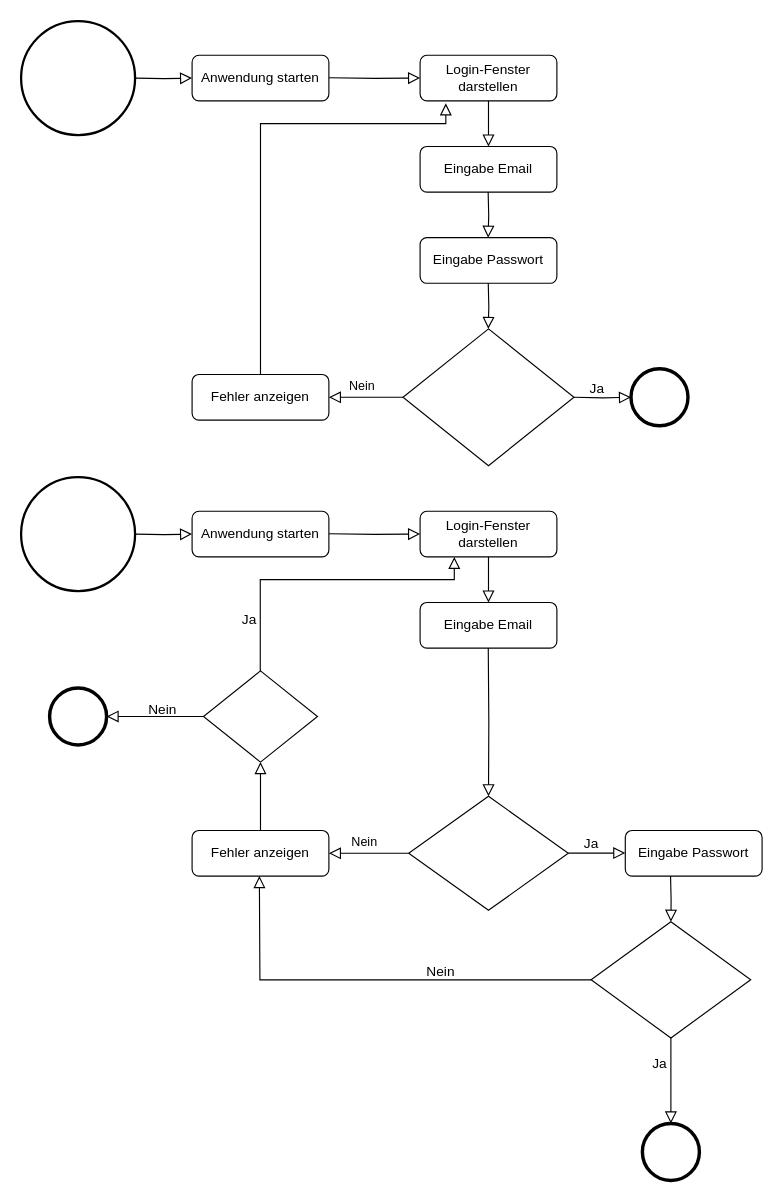
Some shapes in this 782 by 1200 pixel diagram are drawn without their labels. The centre of each missing label's shape, as x and y in pixels:
Email passt zu eingegebenen Passwort?: point 488,397
Email passt zu gespeichertem User-Profil: point 488,852
Nochmal Versuchen: point 259,716
Passwort passt zu Email: point 670,979
